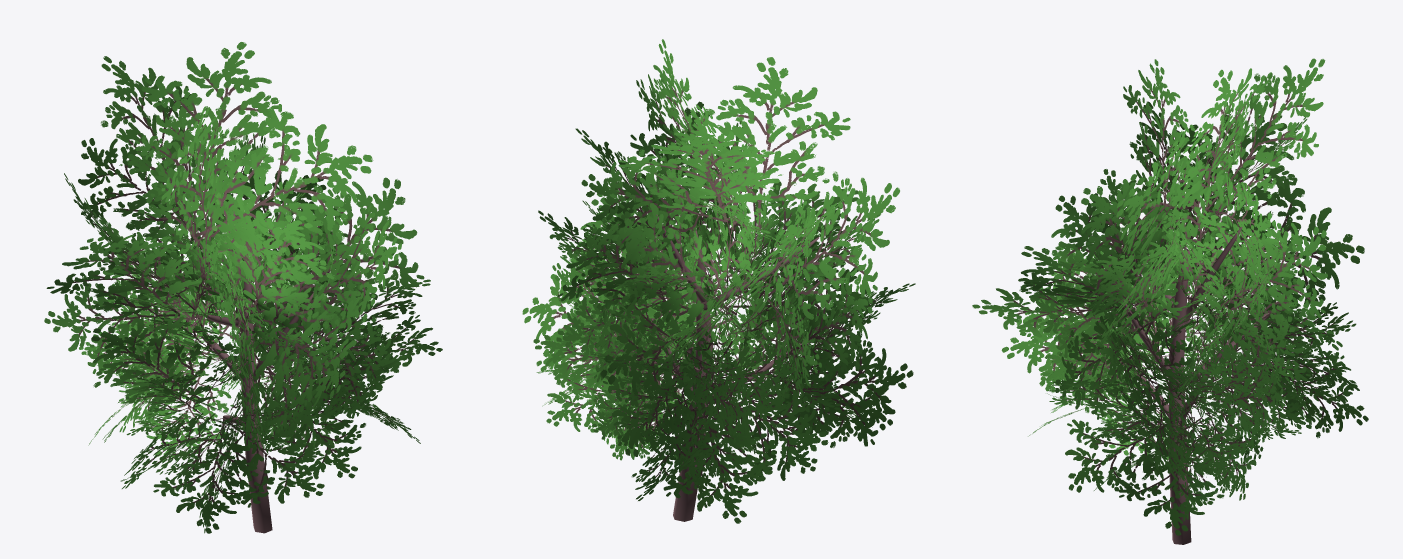
Rendered from Bush_02.fbx.
3 renders of one model, left to right at view 1: azimuth 30°, elevation 25°; view 2: azimuth 150°, elevation 25°; view 3: azimuth 270°, elevation 25°, orthographic. The views are drawn at different scales.
Parts seen in each view (by area): view 1: Leaves.015; view 2: Leaves.015; view 3: Leaves.015.
Part boxes in pixels (left/top/right/bottom): Leaves.015: left=44, top=42, right=442, bottom=533; Leaves.015: left=522, top=39, right=915, bottom=523; Leaves.015: left=972, top=58, right=1368, bottom=544.
Bounding box in the file's own units: 279 × 317 × 249.
